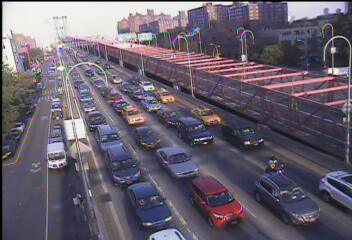neg: (267, 151, 285, 175)
